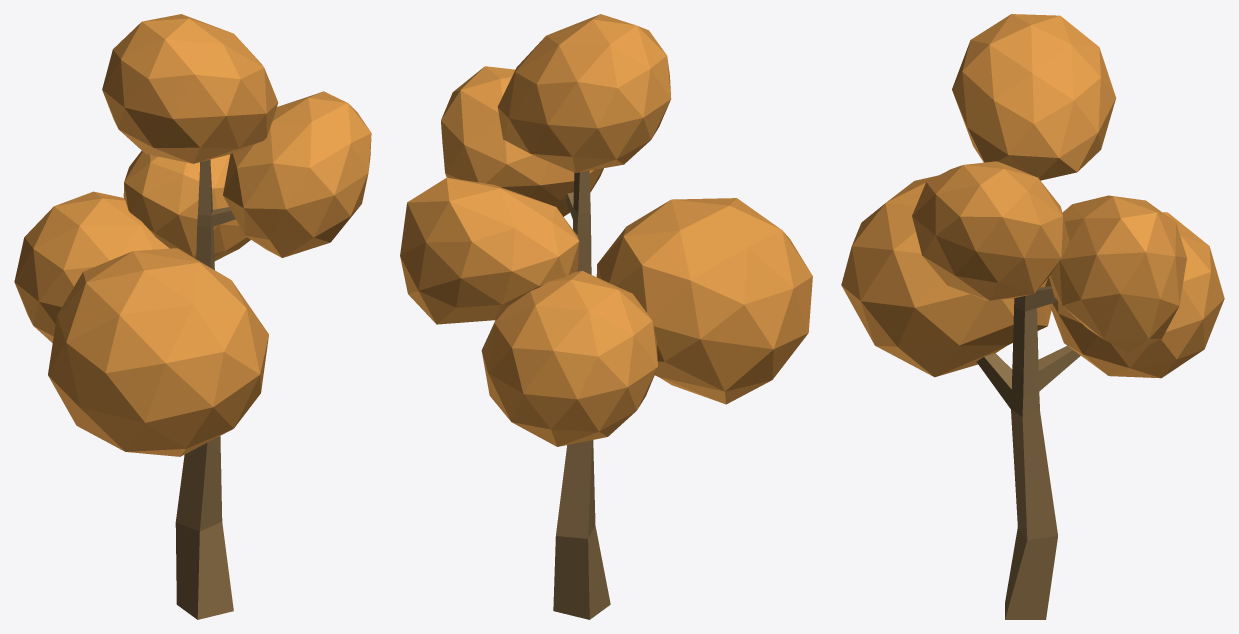
File: forest-oak-b-fall.glb
The picture shows the model from 3 angles, left to right: view 1: azimuth 30°, elevation 25°; view 2: azimuth 150°, elevation 25°; view 3: azimuth 270°, elevation 25°; orthographic projection. The views are drawn at different scales.
Visible parts, largest first — view 1: OakTree2; view 2: OakTree2; view 3: OakTree2.
Part boxes in pixels (x1,y1,x2,y2): OakTree2: (14, 14, 371, 619); OakTree2: (400, 14, 812, 619); OakTree2: (841, 14, 1224, 619).
Bounding box in the file's own units: 4.27 × 7.63 × 4.58.
